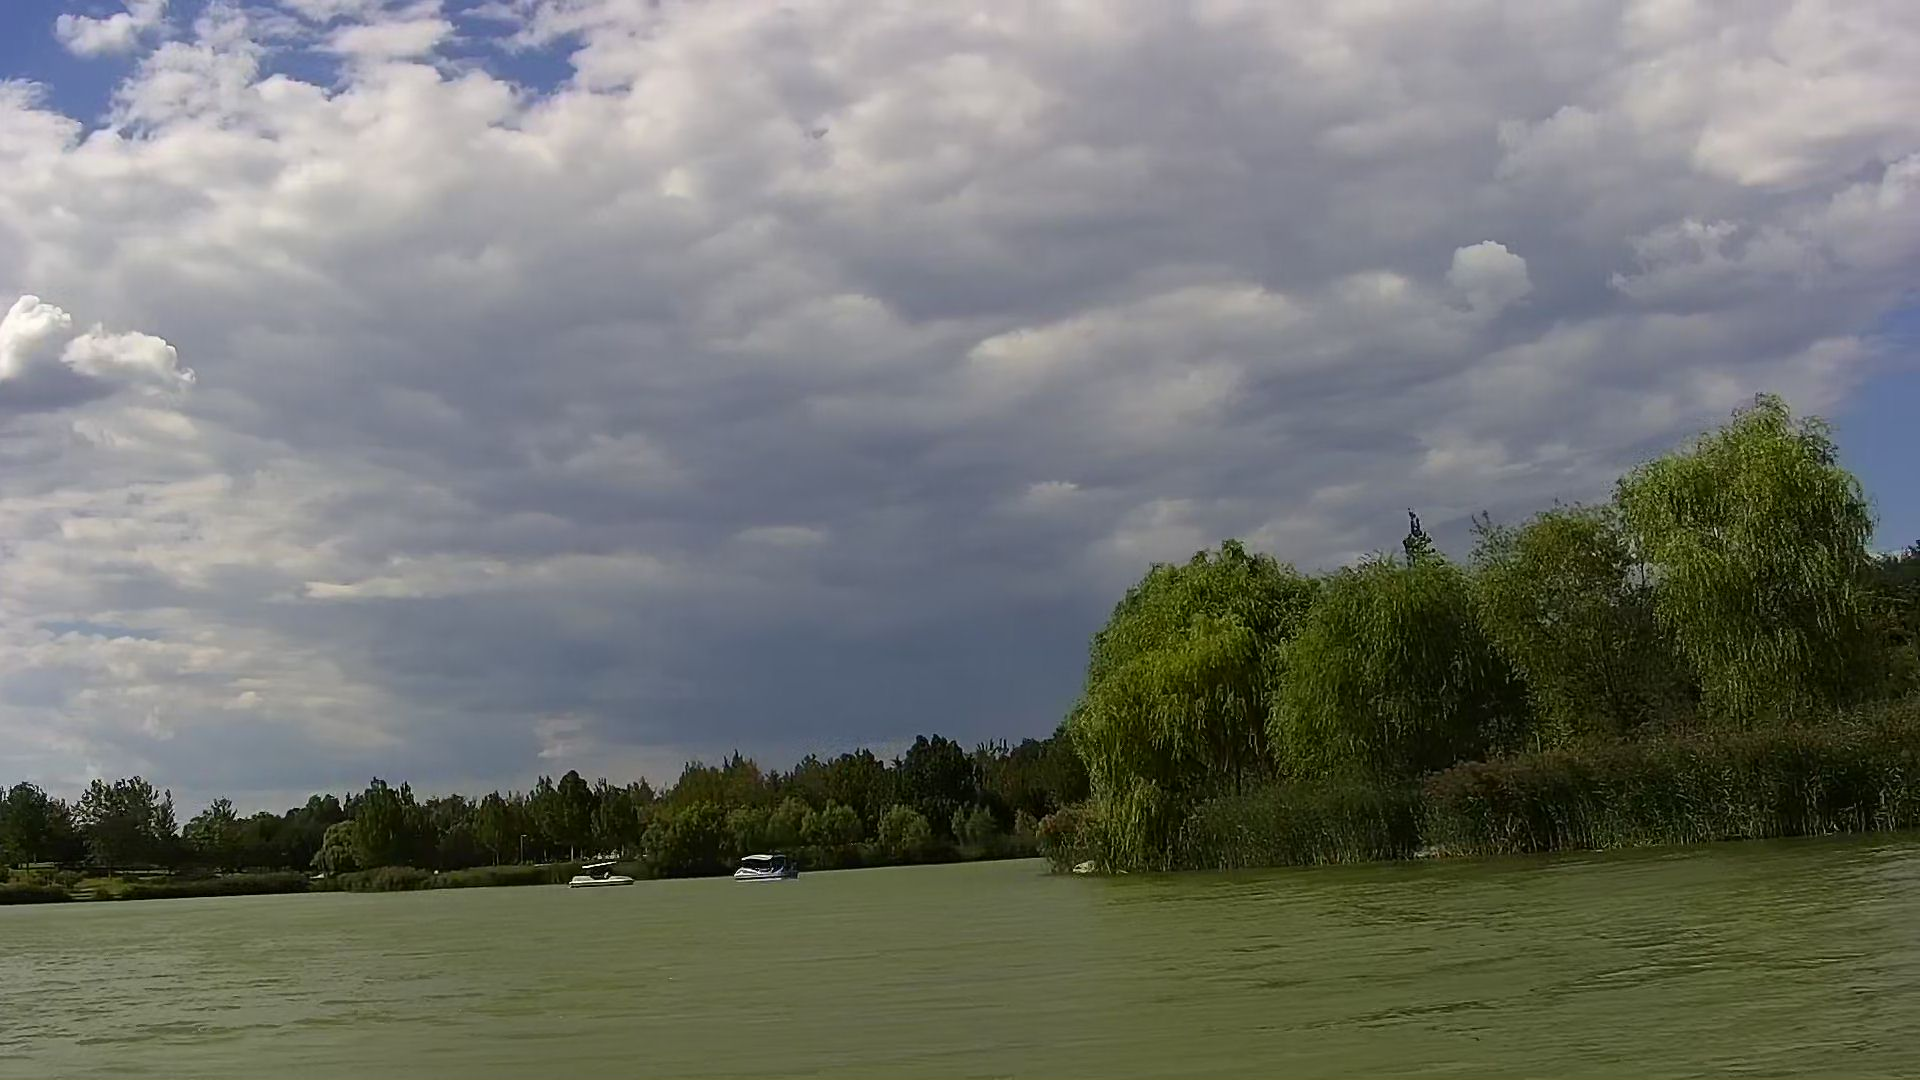boat: (567, 858, 634, 891), (731, 855, 796, 885)
rock: (1067, 860, 1100, 880)
